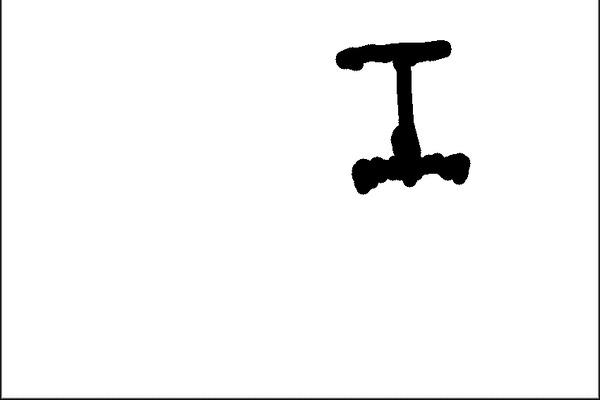i: (318, 31, 482, 205)
